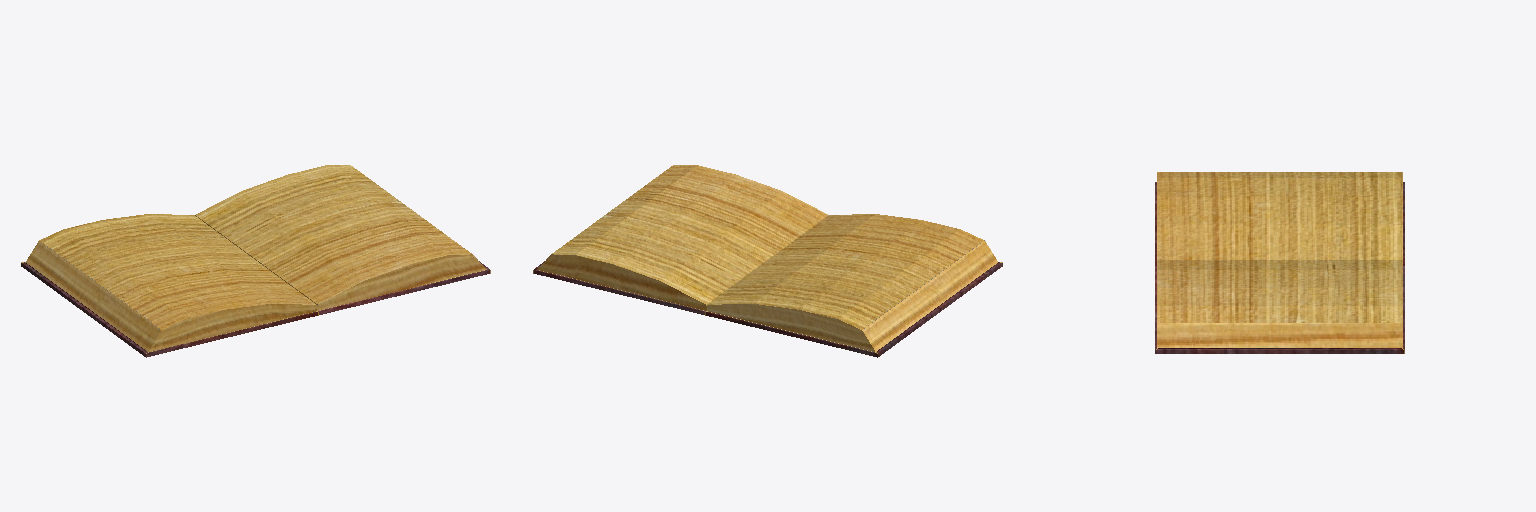
3 views of the same model, side by side, from view 1: azimuth 30°, elevation 25°; view 2: azimuth 150°, elevation 25°; view 3: azimuth 270°, elevation 25° (orthographic).
Visible parts, largest first — view 1: polySurface2polySurface1polySurface17, polySurface2polySurface1polySurface16, polySurface13polySurface2polySurface2, polySurface1polySurface5polySurface14, polySurface1polySurface11polySurface5, polySurface1polySurface4, polySurface1polySurface8; view 2: polySurface2polySurface1polySurface17, polySurface2polySurface1polySurface16, polySurface13polySurface2polySurface2, polySurface1polySurface5polySurface14, polySurface1polySurface11polySurface5, polySurface1polySurface3, polySurface1polySurface7; view 3: polySurface2polySurface1polySurface16, polySurface2polySurface1polySurface17, polySurface13polySurface2polySurface2, polySurface1polySurface11polySurface5.
Part boxes in pixels (bbox=[...]): polySurface2polySurface1polySurface17: bbox=[196, 165, 470, 303]; polySurface2polySurface1polySurface16: bbox=[40, 214, 315, 329]; polySurface13polySurface2polySurface2: bbox=[21, 173, 490, 353]; polySurface1polySurface5polySurface14: bbox=[26, 241, 160, 351]; polySurface1polySurface11polySurface5: bbox=[21, 261, 489, 356]; polySurface1polySurface4: bbox=[146, 312, 317, 357]; polySurface1polySurface8: bbox=[318, 270, 489, 314]; polySurface2polySurface1polySurface17: bbox=[553, 165, 827, 303]; polySurface2polySurface1polySurface16: bbox=[708, 214, 983, 329]; polySurface13polySurface2polySurface2: bbox=[533, 173, 1002, 353]; polySurface1polySurface5polySurface14: bbox=[863, 241, 997, 351]; polySurface1polySurface11polySurface5: bbox=[534, 261, 1002, 356]; polySurface1polySurface3: bbox=[706, 312, 877, 357]; polySurface1polySurface7: bbox=[534, 270, 705, 314]; polySurface2polySurface1polySurface16: bbox=[1158, 172, 1401, 259]; polySurface2polySurface1polySurface17: bbox=[1158, 260, 1401, 322]; polySurface13polySurface2polySurface2: bbox=[1156, 172, 1404, 353]; polySurface1polySurface11polySurface5: bbox=[1155, 182, 1403, 353].
Bounding box in the file's own units: 0.1891 × 0.0145 × 0.1186.
6 materials, 3 textured.